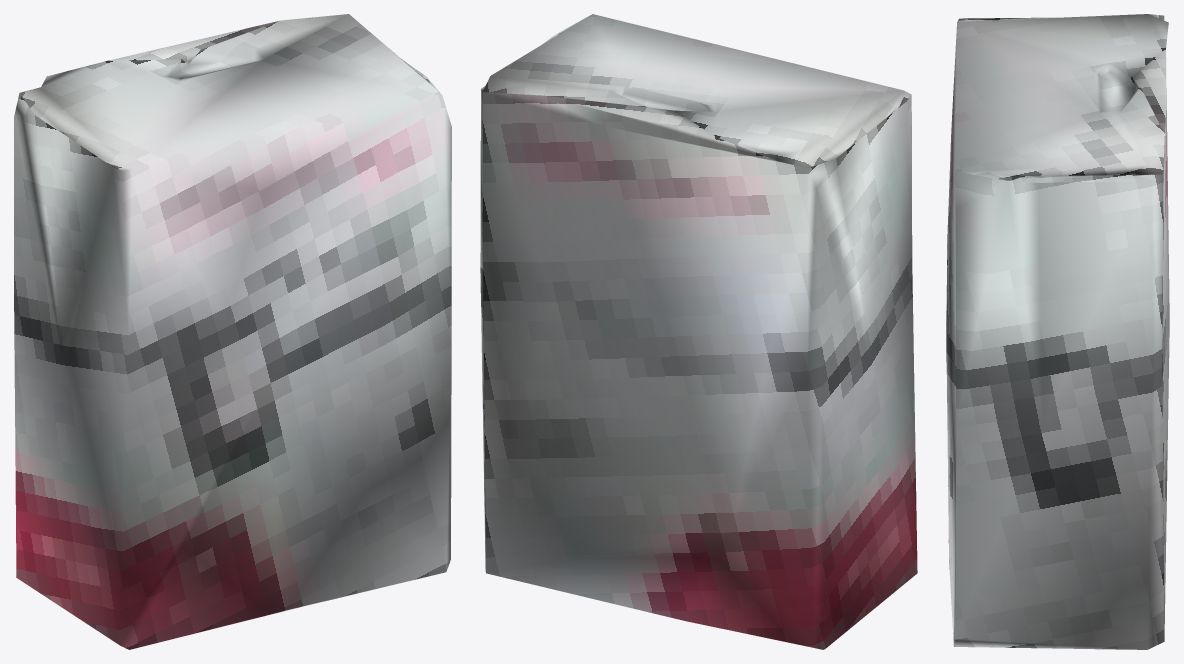
The model's file is Office_Depot_Canon_PG_240XL_Ink_Cartridge_Black_5206B001-low.glb.
The picture shows the model from 3 angles, left to right: view 1: azimuth 30°, elevation 25°; view 2: azimuth 150°, elevation 25°; view 3: azimuth 270°, elevation 25°; orthographic projection. The views are drawn at different scales.
Visible parts, largest first — view 1: Office_Depot_Canon_PG_240XL_Ink_Cartridge_Black_5206B001; view 2: Office_Depot_Canon_PG_240XL_Ink_Cartridge_Black_5206B001; view 3: Office_Depot_Canon_PG_240XL_Ink_Cartridge_Black_5206B001.
Part boxes in pixels (left/top/right/bottom): Office_Depot_Canon_PG_240XL_Ink_Cartridge_Black_5206B001: left=14, top=14, right=451, bottom=649; Office_Depot_Canon_PG_240XL_Ink_Cartridge_Black_5206B001: left=480, top=14, right=917, bottom=649; Office_Depot_Canon_PG_240XL_Ink_Cartridge_Black_5206B001: left=946, top=14, right=1169, bottom=649.
Size of the model in its own units: 0.0859 by 0.1178 by 0.049.
Materials: 1 (1 with a texture image).
